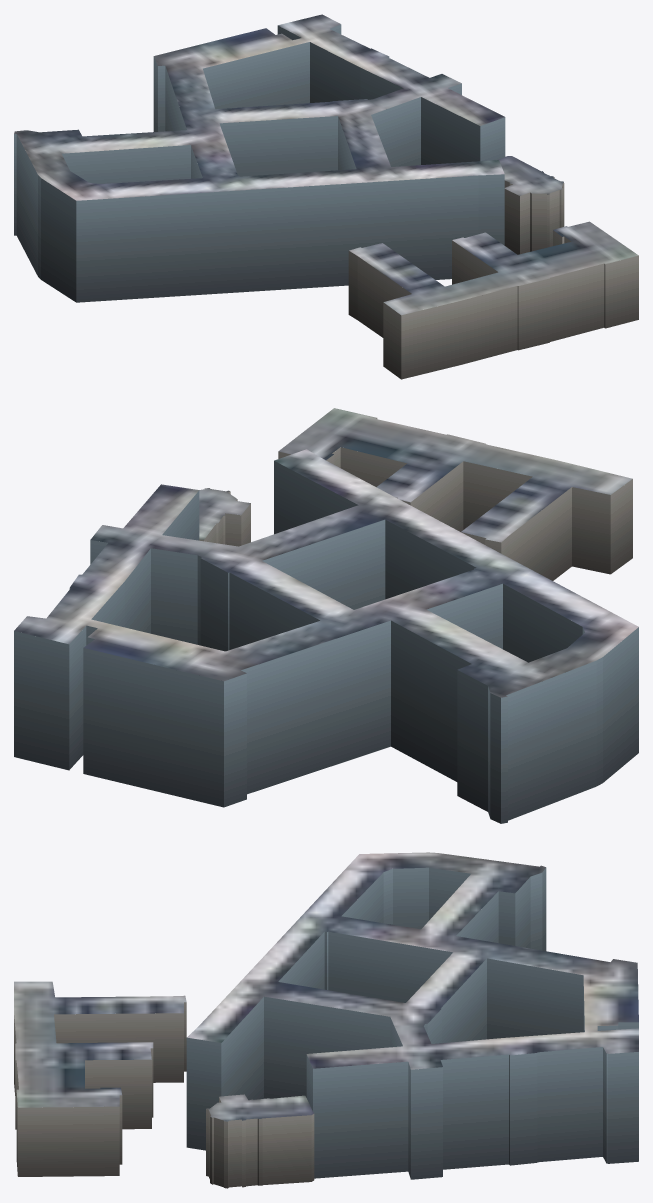
3 renders of one model, top to bottom at view 1: azimuth 30°, elevation 25°; view 2: azimuth 150°, elevation 25°; view 3: azimuth 270°, elevation 25°, orthographic. The views are drawn at different scales.
Bounding box in the file's own units: 165 × 37.51 × 193.
2 materials, 2 textured.
